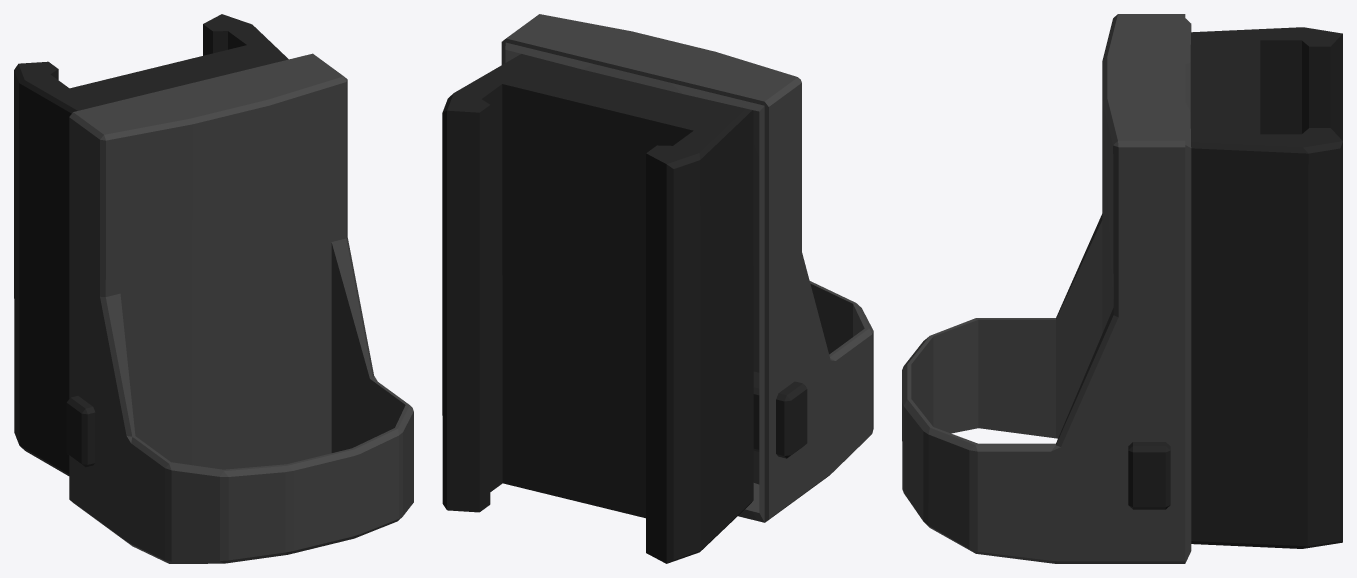
The model's file is AssaultRifleRedRot.glb.
The picture shows the model from 3 angles, left to right: view 1: azimuth 30°, elevation 25°; view 2: azimuth 150°, elevation 25°; view 3: azimuth 270°, elevation 25°; orthographic projection. The views are drawn at different scales.
Parts seen in each view (by area): view 1: AssaultRifleRedRot; view 2: AssaultRifleRedRot; view 3: AssaultRifleRedRot.
Part boxes in pixels (left/top/right/bottom): AssaultRifleRedRot: left=14, top=14, right=413, bottom=563; AssaultRifleRedRot: left=442, top=14, right=873, bottom=563; AssaultRifleRedRot: left=902, top=14, right=1342, bottom=563.
Size of the model in its own units: 1.04 by 1.43 by 1.35.
1 material, 1 textured.
